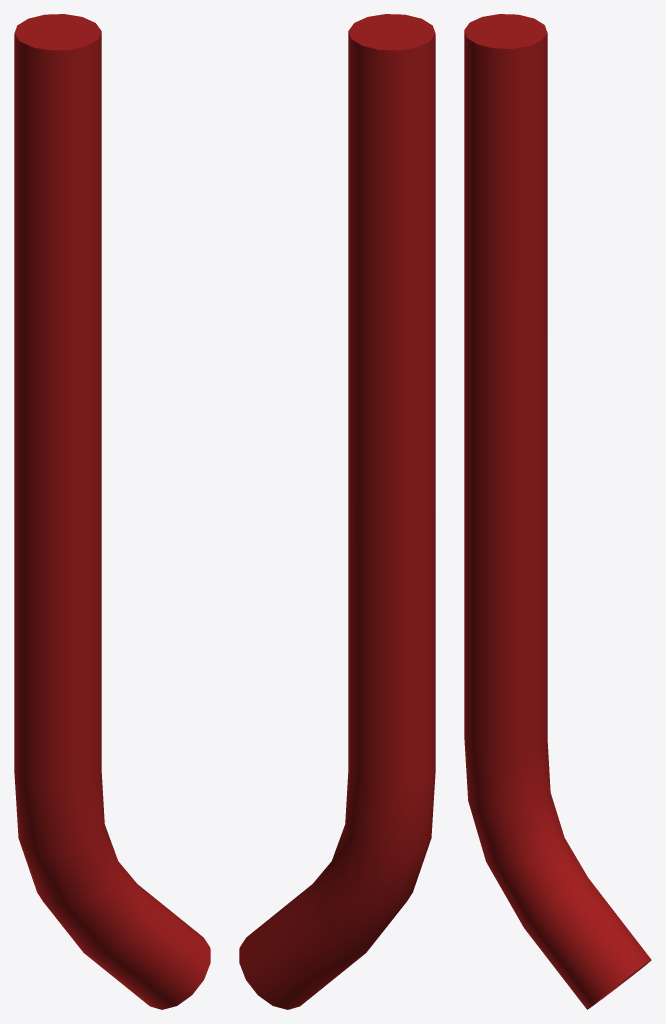
Rendered from powerline0.1.fbx.
The picture shows the model from 3 angles, left to right: view 1: azimuth 30°, elevation 25°; view 2: azimuth 150°, elevation 25°; view 3: azimuth 330°, elevation 25°; orthographic projection. The views are drawn at different scales.
Visible parts, largest first — view 1: powerline; view 2: powerline; view 3: powerline.
Boxes of the visible parts, x1=… form: powerline: x1=14, y1=14, x2=210, y2=1009; powerline: x1=239, y1=14, x2=435, y2=1009; powerline: x1=464, y1=14, x2=651, y2=1009.
Size of the model in its own units: 4.85 by 25.15 by 1.95.
